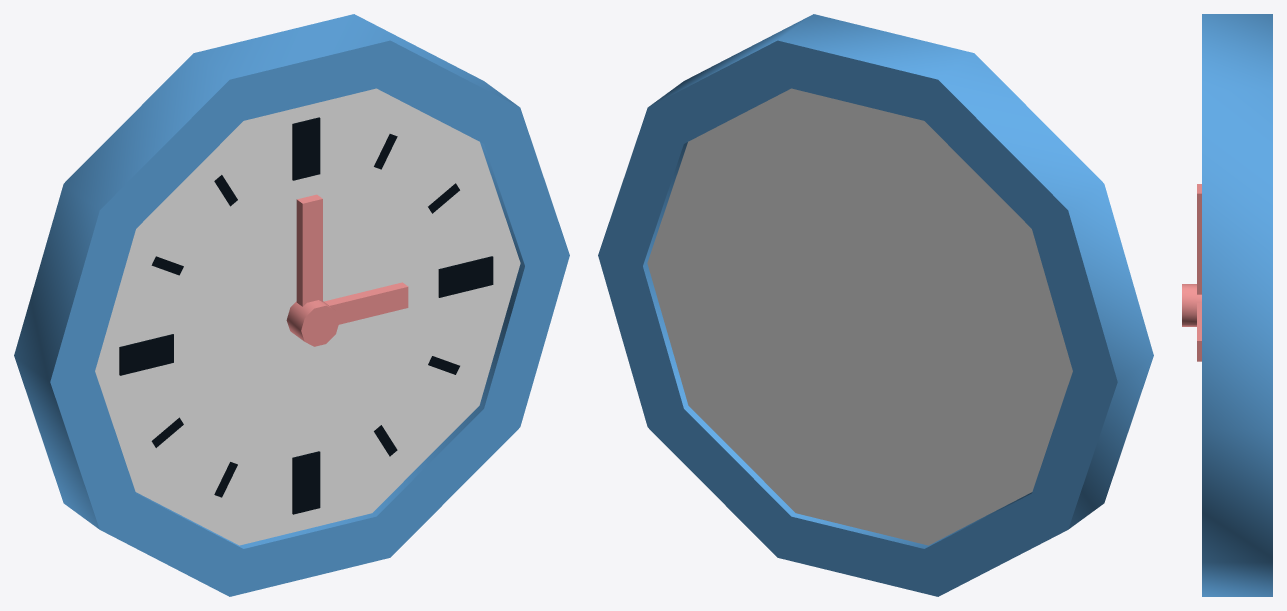
Rendered from clock_v01.gltf.
The picture shows the model from 3 angles, left to right: view 1: azimuth 30°, elevation 25°; view 2: azimuth 150°, elevation 25°; view 3: azimuth 270°, elevation 25°; orthographic projection. The views are drawn at different scales.
Visible parts, largest first — view 1: Cylinder (×2), Tube, Cube.1, Cube, Cube 2, Cube 0, Cube 1, Cube 3; view 2: Cylinder, Tube; view 3: Tube, Cylinder, Cube.1, Cube.
Part boxes in pixels (x1=…): Cylinder (×2): x1=95, y1=88, x2=520, y2=545; Tube: x1=14, y1=14, x2=569, y2=596; Cube.1: x1=296, y1=194, x2=322, y2=306; Cube: x1=324, y1=282, x2=408, y2=324; Cube 2: x1=292, y1=451, x2=320, y2=514; Cube 0: x1=292, y1=117, x2=320, y2=180; Cube 1: x1=438, y1=256, x2=493, y2=297; Cube 3: x1=119, y1=334, x2=173, y2=375; Cylinder: x1=647, y1=88, x2=1072, y2=545; Tube: x1=598, y1=14, x2=1153, y2=596; Tube: x1=1202, y1=14, x2=1272, y2=596; Cylinder: x1=1182, y1=284, x2=1201, y2=326; Cube.1: x1=1197, y1=184, x2=1201, y2=294; Cube: x1=1197, y1=302, x2=1201, y2=361.
Size of what is drawn, in the model's own units: 0.58 by 0.5516 by 0.0898.
